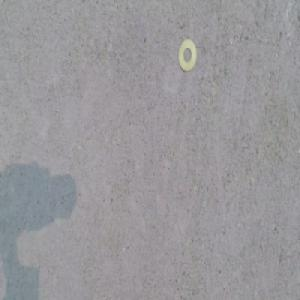Washer: (178, 38, 197, 69)
